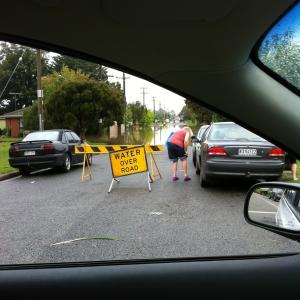Vehicle-registration-plate: (240, 150, 258, 157), (25, 152, 36, 156)
